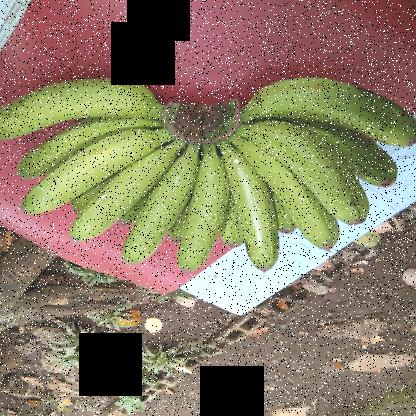freshunripe: (236, 124, 374, 227), (16, 130, 166, 218), (235, 140, 341, 254), (65, 145, 177, 244), (121, 145, 206, 268), (1, 79, 157, 146), (170, 145, 236, 278)
unripe: (229, 74, 416, 150)
